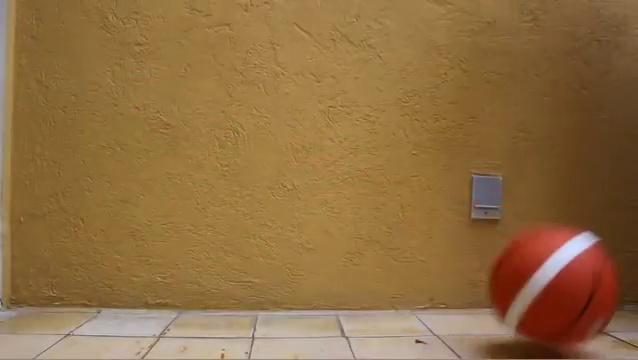ball: (488, 220, 620, 351)
